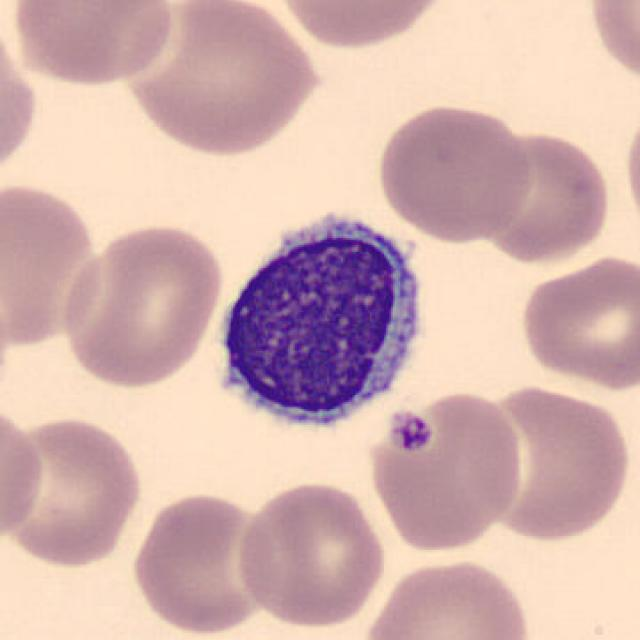Lymphocyte: (203, 197, 437, 441)
Platelets: (384, 407, 436, 457)
RBC: (117, 0, 326, 159), (57, 218, 226, 390), (364, 388, 526, 553), (475, 379, 633, 545), (233, 478, 389, 631), (373, 100, 537, 244), (2, 411, 146, 569), (126, 488, 276, 636), (473, 127, 615, 268), (0, 178, 105, 353), (516, 252, 638, 393), (7, 0, 180, 90), (359, 553, 535, 640), (272, 0, 453, 53), (0, 8, 41, 188), (0, 397, 48, 550), (583, 0, 640, 92), (620, 97, 640, 238)
